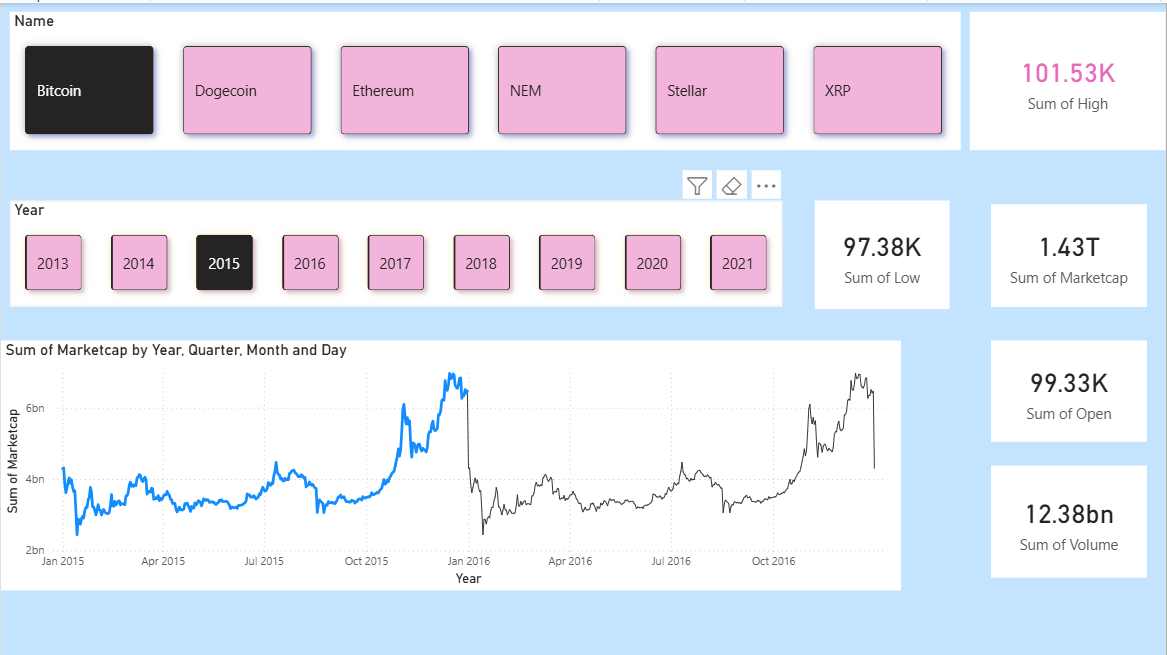

This screenshot's page, from the dashboard's own definition file:
{"tool":"powerbi","page":{"name":"Page 1","canvas":[1280,720],"ordinal":0},"visuals":[{"type":"advancedSlicerVisual","fields":{"Values":["DigitalCurrency.Date.Variation.Date Hierarchy.Year"]},"box":[9.6,216.8,848,116.6],"z":0},{"type":"advancedSlicerVisual","fields":{"Values":["DigitalCurrency.Name"]},"box":[9.6,9.6,1044.3,152.3],"z":1000},{"type":"lineChart","fields":{"Y":["Sum(DigitalCurrency.Marketcap)"],"Category":["DigitalCurrency.Date.Variation.Date Hierarchy.Year","DigitalCurrency.Date.Variation.Date Hierarchy.Quarter","DigitalCurrency.Date.Variation.Date Hierarchy.Month","DigitalCurrency.Date.Variation.Date Hierarchy.Day"]},"box":[0,370.5,988,274.4],"z":2000},{"type":"card","fields":{"Values":["Sum(DigitalCurrency.High)"]},"box":[1064,10,216,152],"z":3000},{"type":"card","fields":{"Values":["Sum(DigitalCurrency.Low)"]},"box":[893.3,216.8,148.2,119.4],"z":4000},{"type":"card","fields":{"Values":["Sum(DigitalCurrency.Marketcap)"]},"box":[1086.8,220.9,171.5,112.5],"z":5000},{"type":"card","fields":{"Values":["Sum(DigitalCurrency.Open)"]},"box":[1086.8,370.5,171.5,111.1],"z":6000},{"type":"card","fields":{"Values":["Sum(DigitalCurrency.Volume)"]},"box":[1086.8,507.7,171.5,123.5],"z":7000}]}

Visuals, with their boxes in screenshot pixels (x1, y1, x2, y2), scaled from the page's 1280x720 canvas onto the 1167x655 screenshot:
advancedSlicerVisual - DigitalCurrency.Date.Variation.Date Hierarchy.Year: select_region(9, 197, 782, 303)
advancedSlicerVisual - DigitalCurrency.Name: select_region(9, 9, 961, 147)
lineChart - Sum(DigitalCurrency.Marketcap) x DigitalCurrency.Date.Variation.Date Hierarchy.Year: select_region(0, 337, 901, 587)
card - Sum(DigitalCurrency.High): select_region(970, 9, 1166, 147)
card - Sum(DigitalCurrency.Low): select_region(814, 197, 950, 306)
card - Sum(DigitalCurrency.Marketcap): select_region(991, 201, 1147, 303)
card - Sum(DigitalCurrency.Open): select_region(991, 337, 1147, 438)
card - Sum(DigitalCurrency.Volume): select_region(991, 462, 1147, 574)
